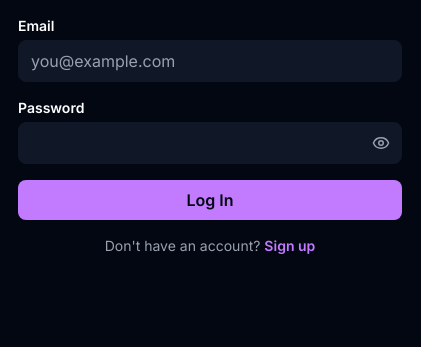
Test: LoginForm › shows a generic error for network or unknown failures
The width and height of the screenshot is (421, 347).
Step 1. Type "fox@heist.io" into the field labelled "Email" → (210, 61), box [18,40,402,82]
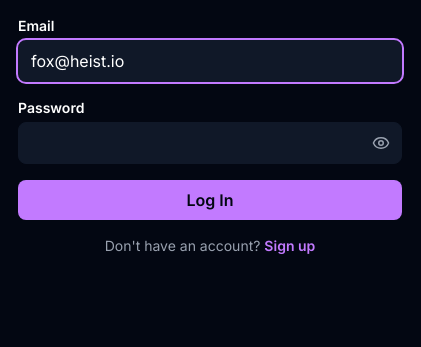
Step 2. Type "secret123" into the password field labelled "Password" → (210, 143), box [18,122,402,164]
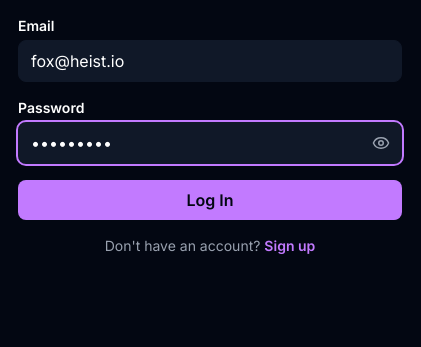
Step 3. Click the button "Log In" → click(210, 200), box [18,180,402,220]
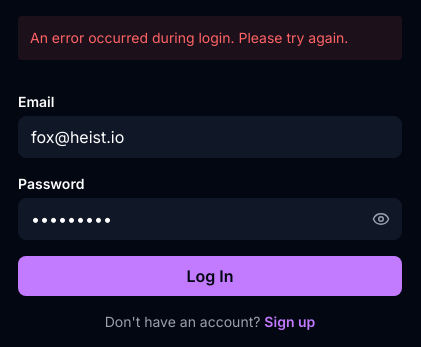
Check: the message reads "An error occurred during login. Please try again.", box [30,29,348,46]
